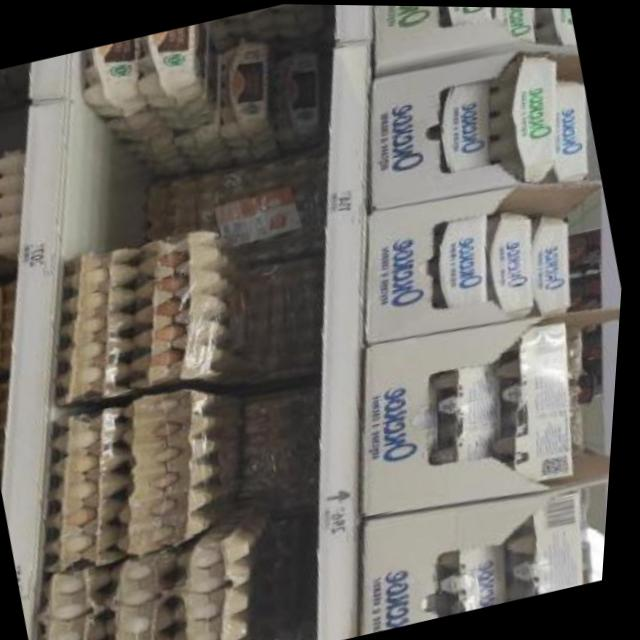Egg: (460, 42, 588, 196), (194, 27, 300, 155), (252, 37, 350, 158), (505, 204, 601, 326), (412, 203, 512, 317), (472, 201, 561, 324), (123, 19, 229, 117), (66, 33, 169, 127), (532, 71, 609, 190), (426, 532, 528, 617), (427, 78, 507, 177), (473, 6, 554, 53), (515, 6, 579, 55), (0, 376, 30, 480), (0, 276, 28, 380), (0, 154, 18, 275), (426, 5, 504, 31)
